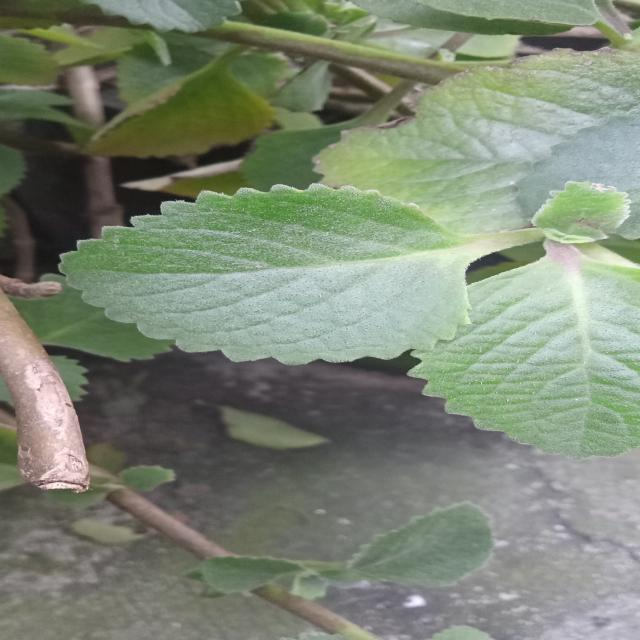Oregano: (32, 162, 606, 400)
